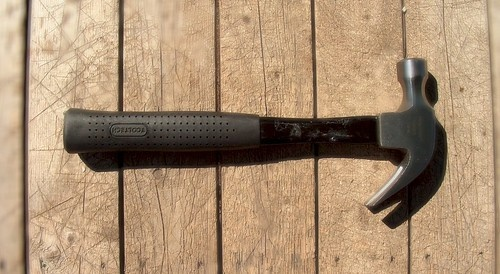hammer: (62, 56, 438, 214)
